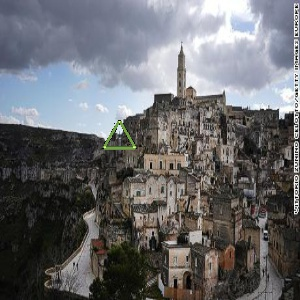triangle: (102, 118, 137, 152)
